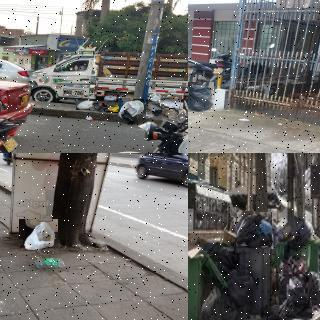Garbage: (279, 274, 312, 318), (19, 220, 58, 252), (237, 212, 272, 246), (188, 82, 214, 112), (118, 99, 145, 121), (159, 106, 178, 121), (145, 101, 162, 117), (161, 99, 183, 109), (76, 99, 95, 110), (148, 94, 163, 103), (94, 103, 108, 111), (107, 105, 120, 112)
